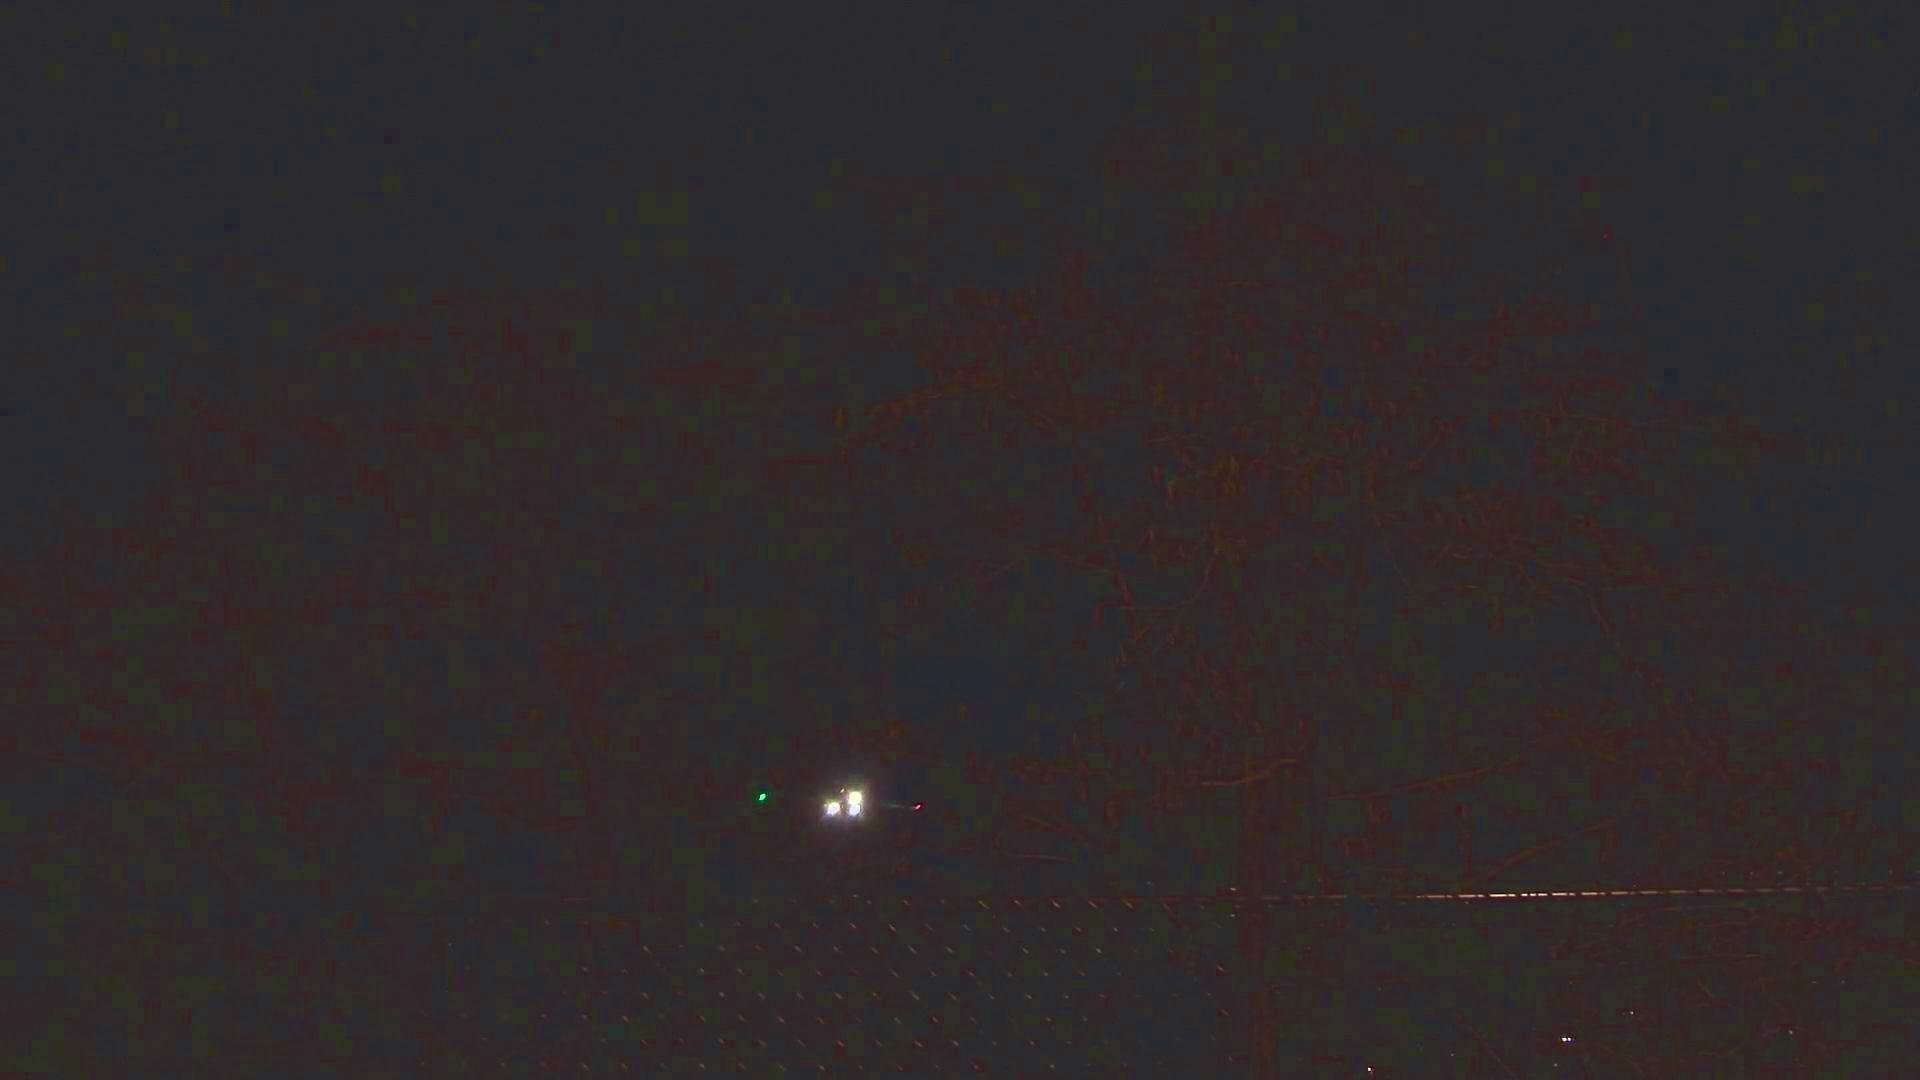Plane: (731, 771, 957, 831)
